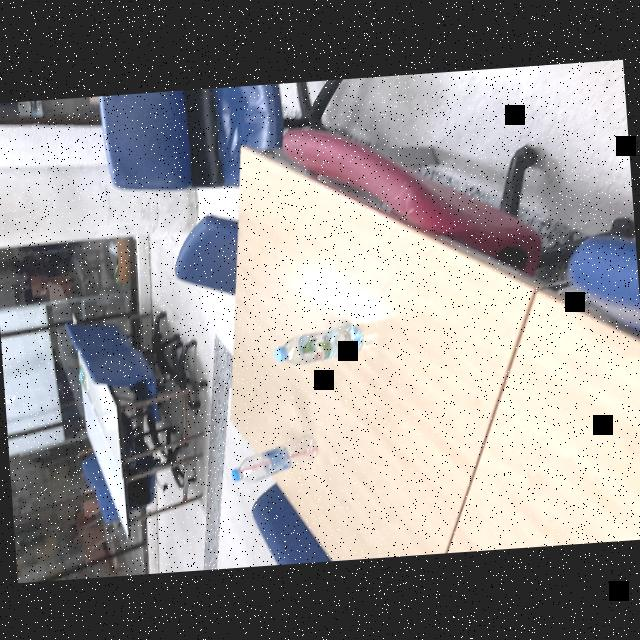plastic_bottle: (226, 431, 322, 486), (270, 316, 365, 366)
